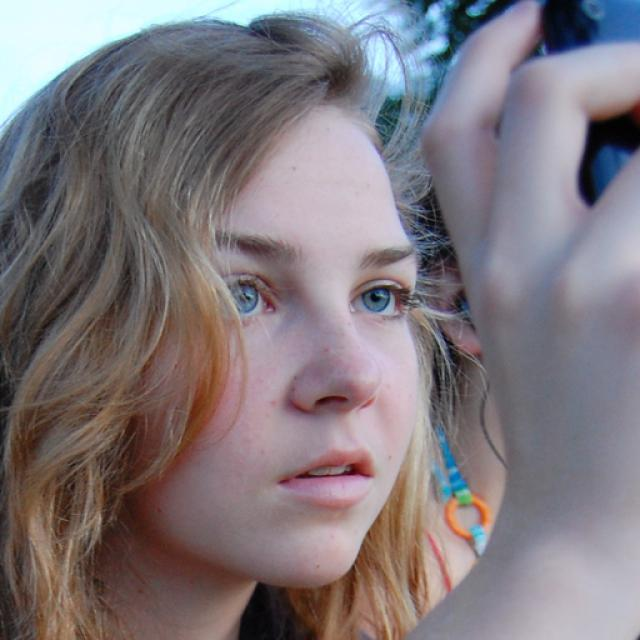sad: (139, 119, 425, 584)
